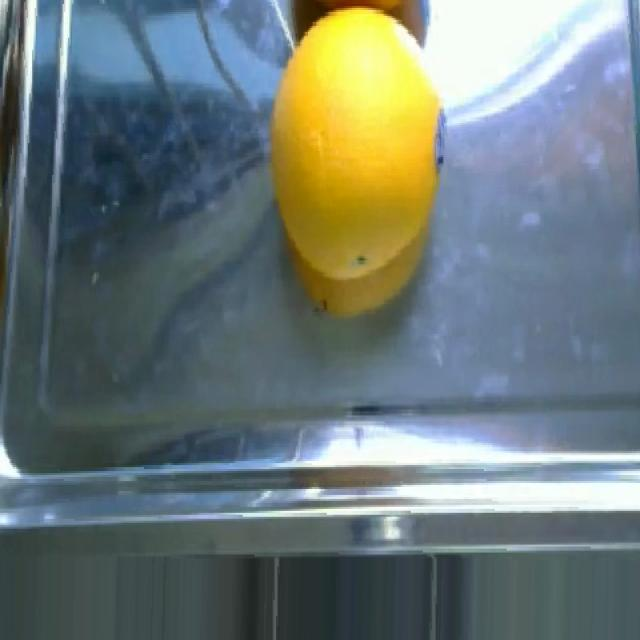Good_Orange: (271, 8, 443, 280)
